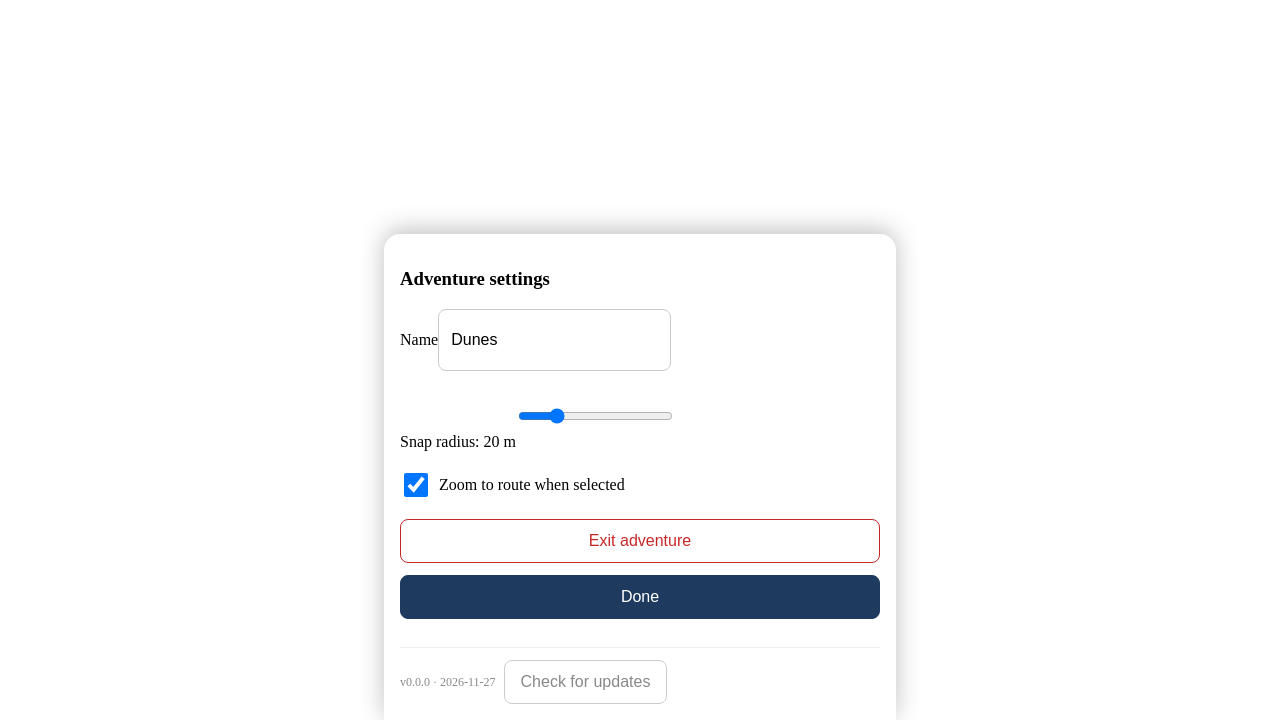
Test: AdventureSettingsSheet › check for updates shows Up to date and version
Step 1. Click the button "Check for updates" → (585, 682), box [504,660,667,704]
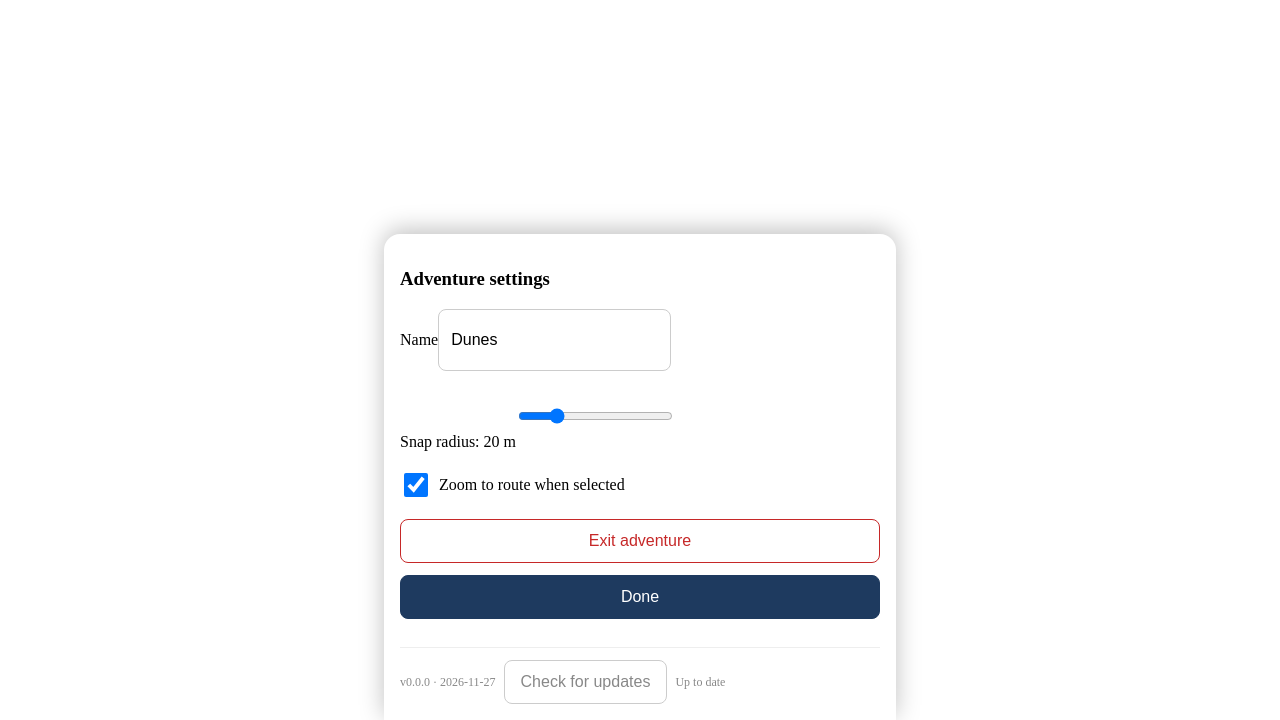
Expected: the text "Up to date" is shown, [675,674,725,690]
